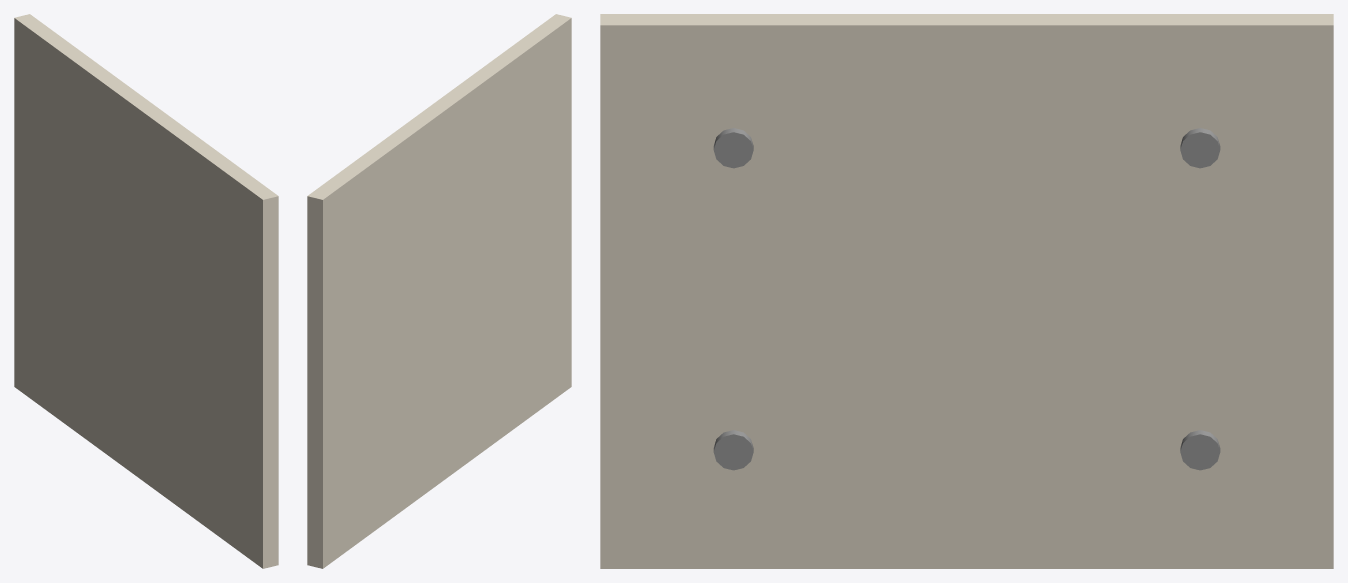
The picture shows the model from 3 angles, left to right: view 1: azimuth 30°, elevation 25°; view 2: azimuth 150°, elevation 25°; view 3: azimuth 270°, elevation 25°; orthographic projection. The views are drawn at different scales.
Visible parts, largest first — view 1: B08; view 2: B08; view 3: B08.
Part boxes in pixels (x1,y1,x2,y2): B08: (14, 14, 278, 568); B08: (307, 14, 571, 568); B08: (600, 14, 1333, 568).
Bounding box in the file's own units: 0.0055 × 0.09 × 0.11.
